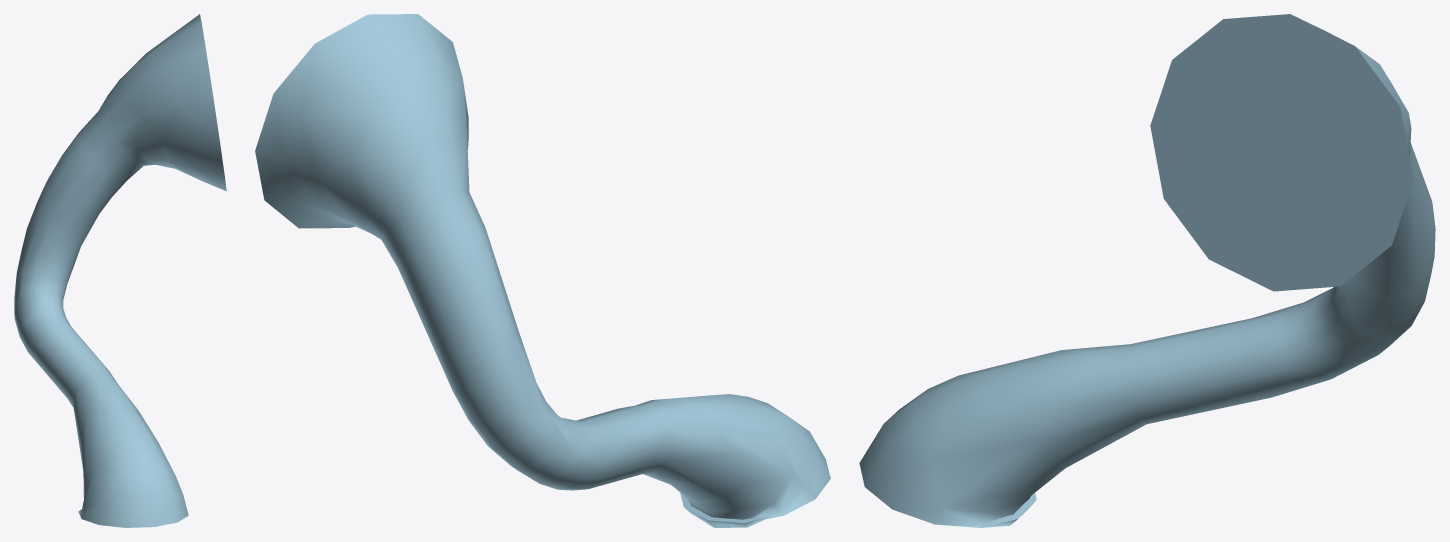
The model's file is articulacoes-anterior-cruciate-ligament-l.glb.
3 views of the same model, side by side, from view 1: azimuth 30°, elevation 25°; view 2: azimuth 150°, elevation 25°; view 3: azimuth 270°, elevation 25° (orthographic). The views are drawn at different scales.
Parts seen in each view (by area): view 1: Anterior cruciate ligament.l; view 2: Anterior cruciate ligament.l; view 3: Anterior cruciate ligament.l.
Boxes of the visible parts, x1=… form: Anterior cruciate ligament.l: x1=14, y1=14, x2=226, y2=527; Anterior cruciate ligament.l: x1=255, y1=14, x2=830, y2=527; Anterior cruciate ligament.l: x1=859, y1=14, x2=1435, y2=527.
Size of the model in its own units: 0.0212 by 0.0297 by 0.0246.
